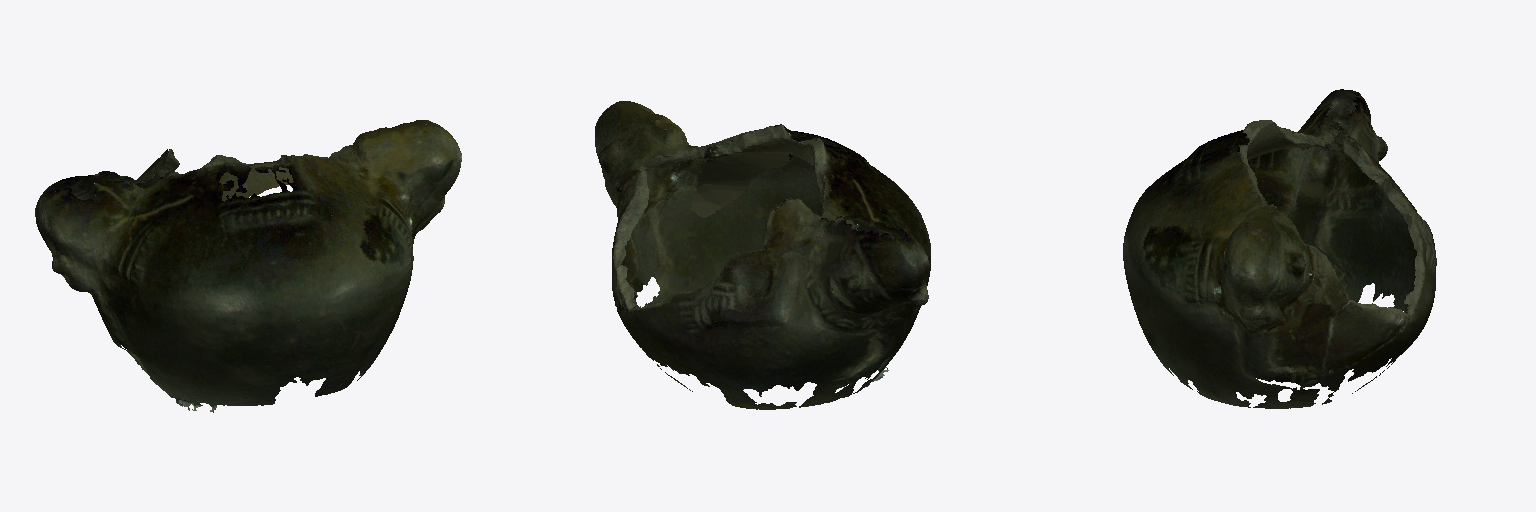
3 views of the same model, side by side, from view 1: azimuth 30°, elevation 25°; view 2: azimuth 150°, elevation 25°; view 3: azimuth 270°, elevation 25° (orthographic).
Bounding box in the file's own units: 96.46 × 56.87 × 70.38.
Materials: 2 (2 with a texture image).